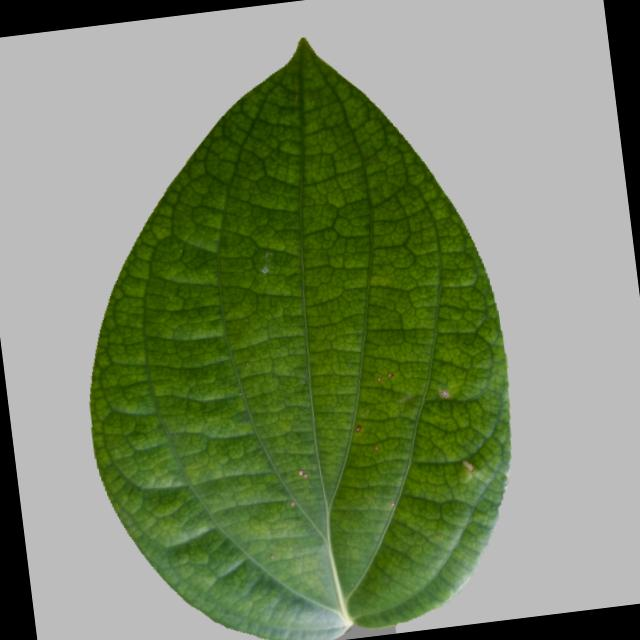healthy: (34, 11, 543, 640)
